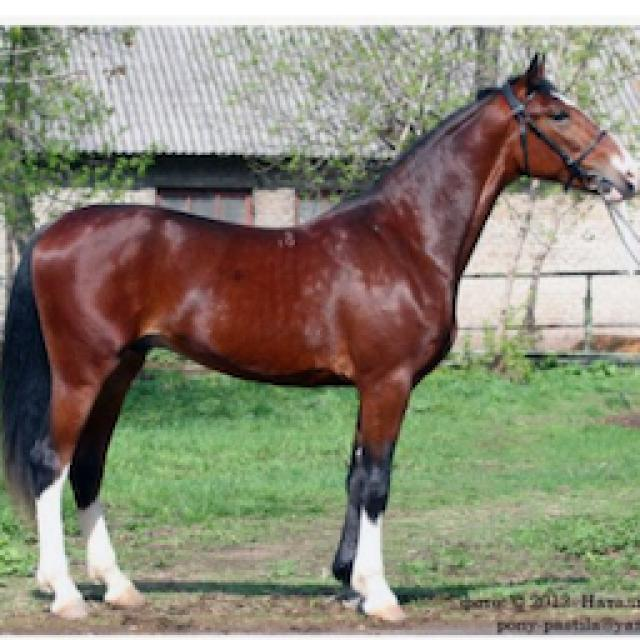Horse: (0, 47, 638, 625)
